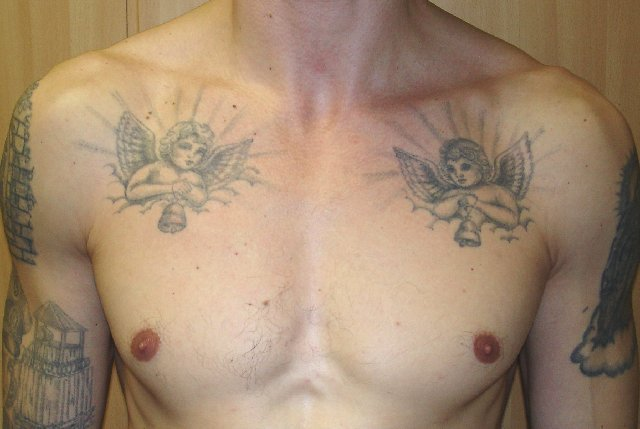tatu1_angel: (373, 113, 561, 253), (89, 102, 265, 226)
